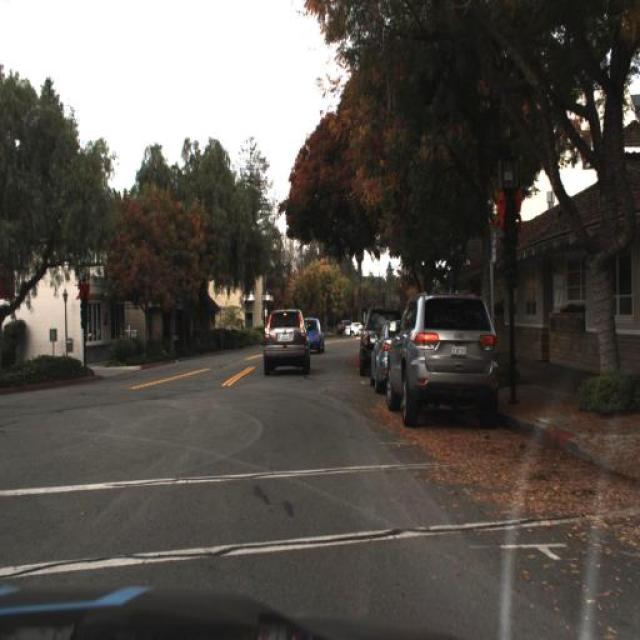car: (383, 293, 502, 432), (353, 300, 407, 380), (260, 306, 310, 382), (368, 316, 401, 395), (298, 314, 324, 356)
